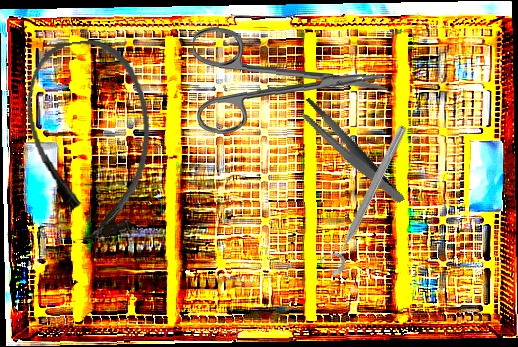Cannula: (18, 34, 163, 245)
Dressing Forceps: (296, 81, 406, 223)
Fixation Ring: (314, 118, 412, 280)
Iris Scissors: (190, 26, 390, 140)
